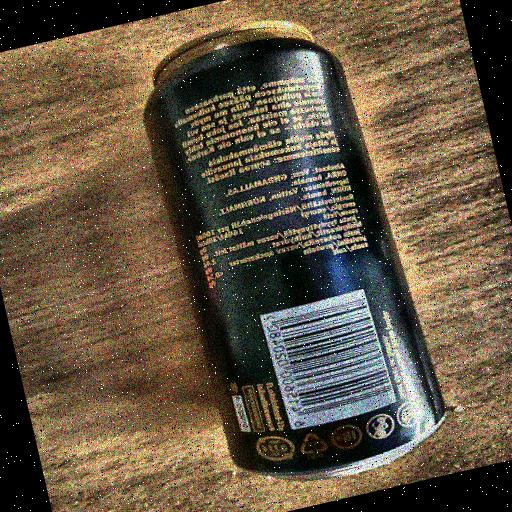karhu: (120, 0, 461, 505)
